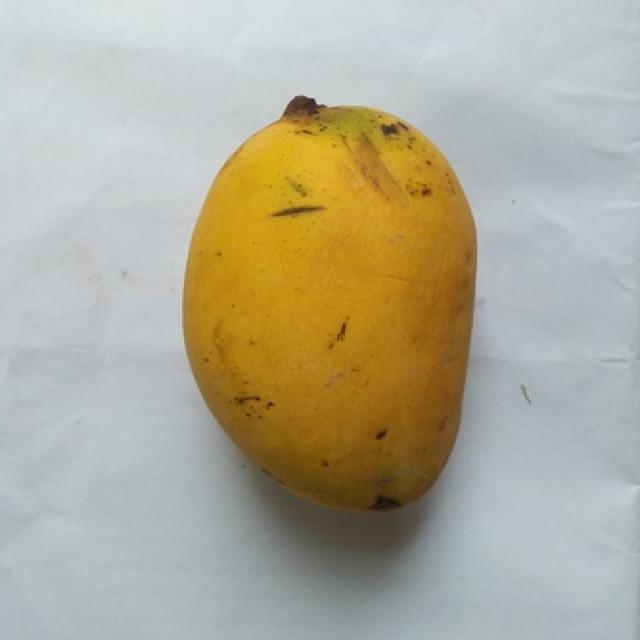Mango: (184, 96, 473, 510)
